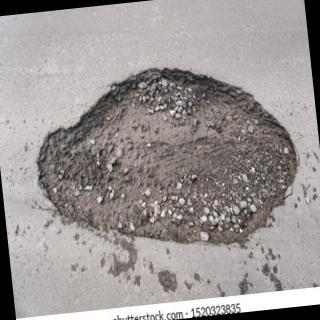pothole: (36, 68, 300, 245)
